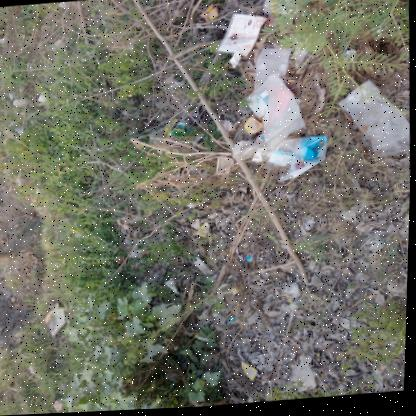Paper: (214, 16, 267, 59)
Plastic: (338, 83, 411, 162), (245, 74, 305, 154), (264, 139, 328, 185), (253, 51, 291, 94), (294, 366, 317, 395), (233, 143, 267, 162), (263, 0, 295, 18), (240, 356, 262, 381), (198, 6, 217, 24), (251, 149, 272, 165), (216, 159, 234, 177), (299, 220, 316, 238), (243, 365, 259, 384), (245, 119, 262, 136), (295, 50, 309, 70), (195, 224, 210, 240), (236, 249, 244, 263), (255, 135, 263, 148), (70, 229, 81, 235), (57, 2, 66, 9), (247, 257, 254, 264), (232, 289, 240, 295), (75, 233, 84, 238)
Waste: (43, 304, 68, 338), (194, 261, 214, 278), (166, 280, 180, 297), (219, 286, 237, 297), (229, 55, 241, 71), (220, 122, 236, 134), (344, 53, 356, 64), (215, 126, 228, 135), (405, 216, 411, 234), (176, 124, 187, 132), (228, 320, 238, 327)
